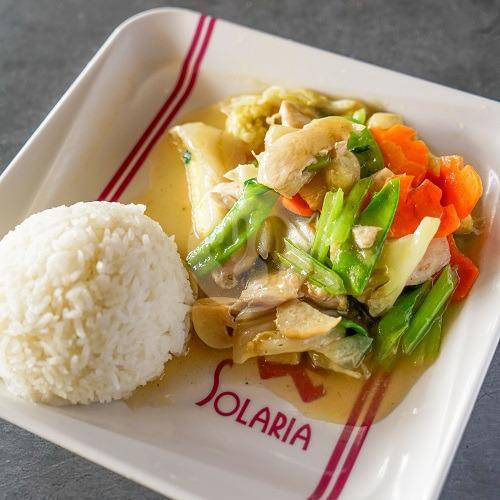buah_sayur_lainnya: (315, 195, 383, 284)
buah_sayur_vitA: (434, 164, 471, 219), (381, 132, 424, 173)
makanan_berpati: (21, 220, 146, 387)
